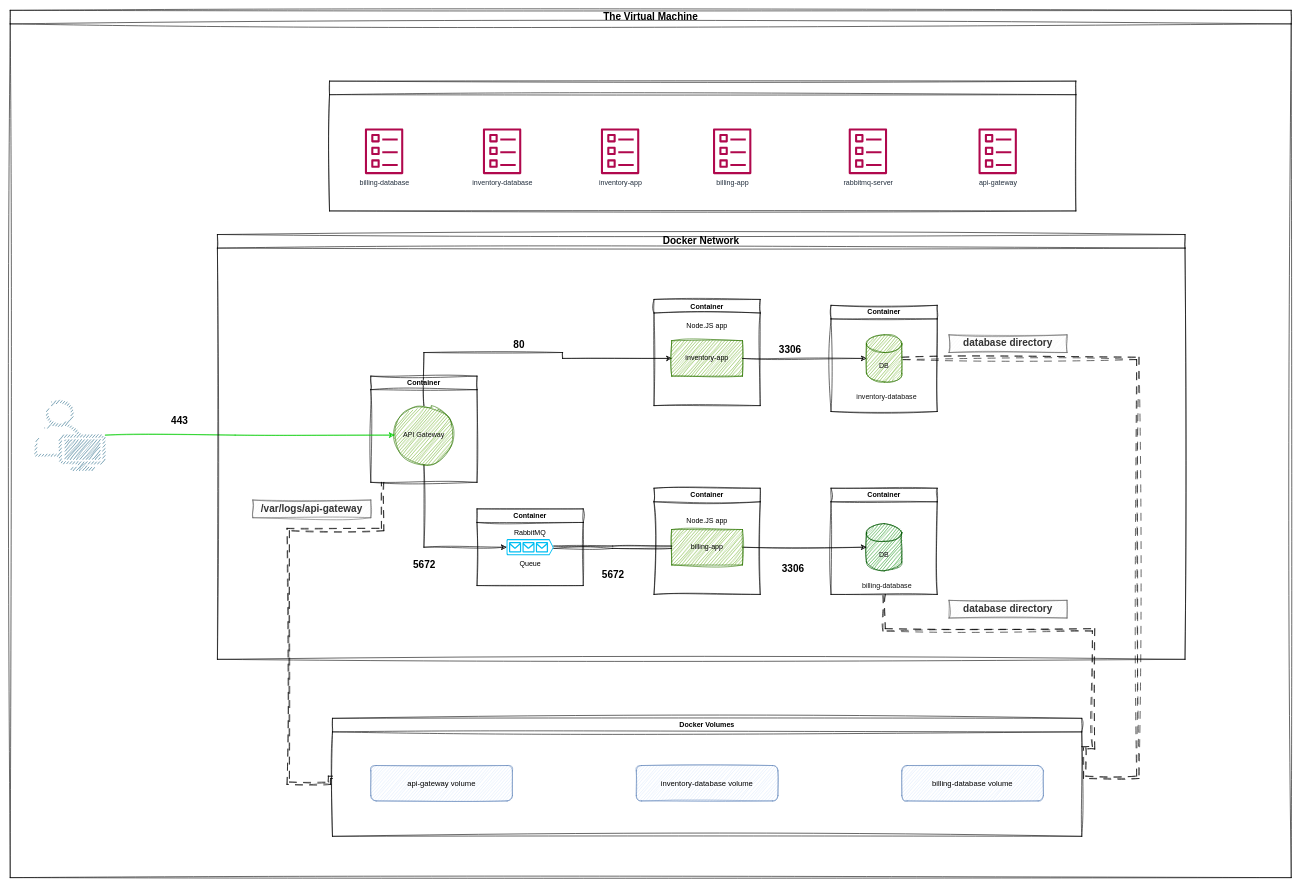
This 1302x888 diagram has some shape labels left out. The box of each missing label's shape, as (x1, y1, x2, y2) in pixels:
Client: (34, 399, 105, 470)
Docker Images: (329, 81, 1076, 211)
